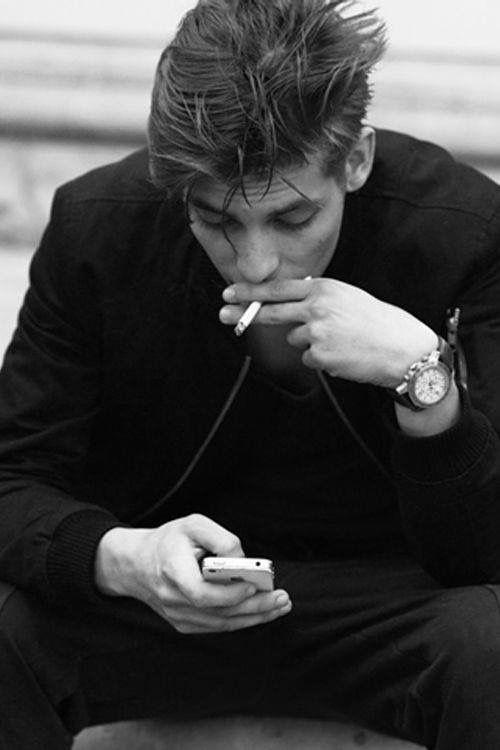cigarette: (234, 300, 262, 336)
